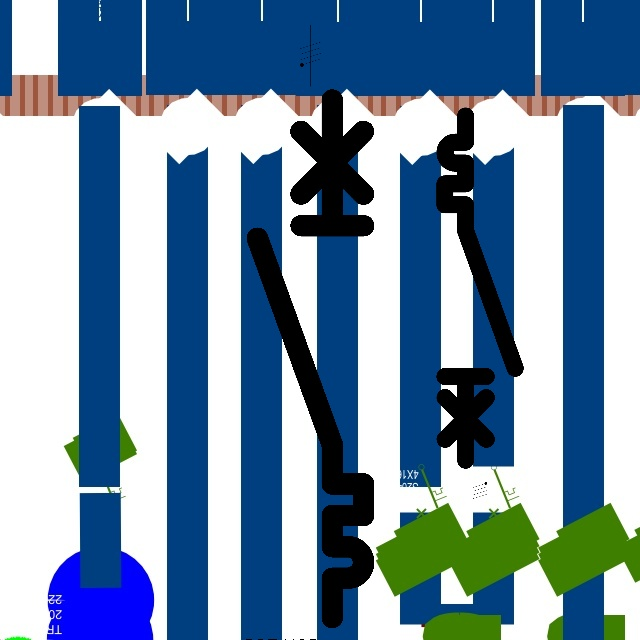interruptor_termomagnetico: (244, 86, 377, 630), (436, 107, 524, 469)
